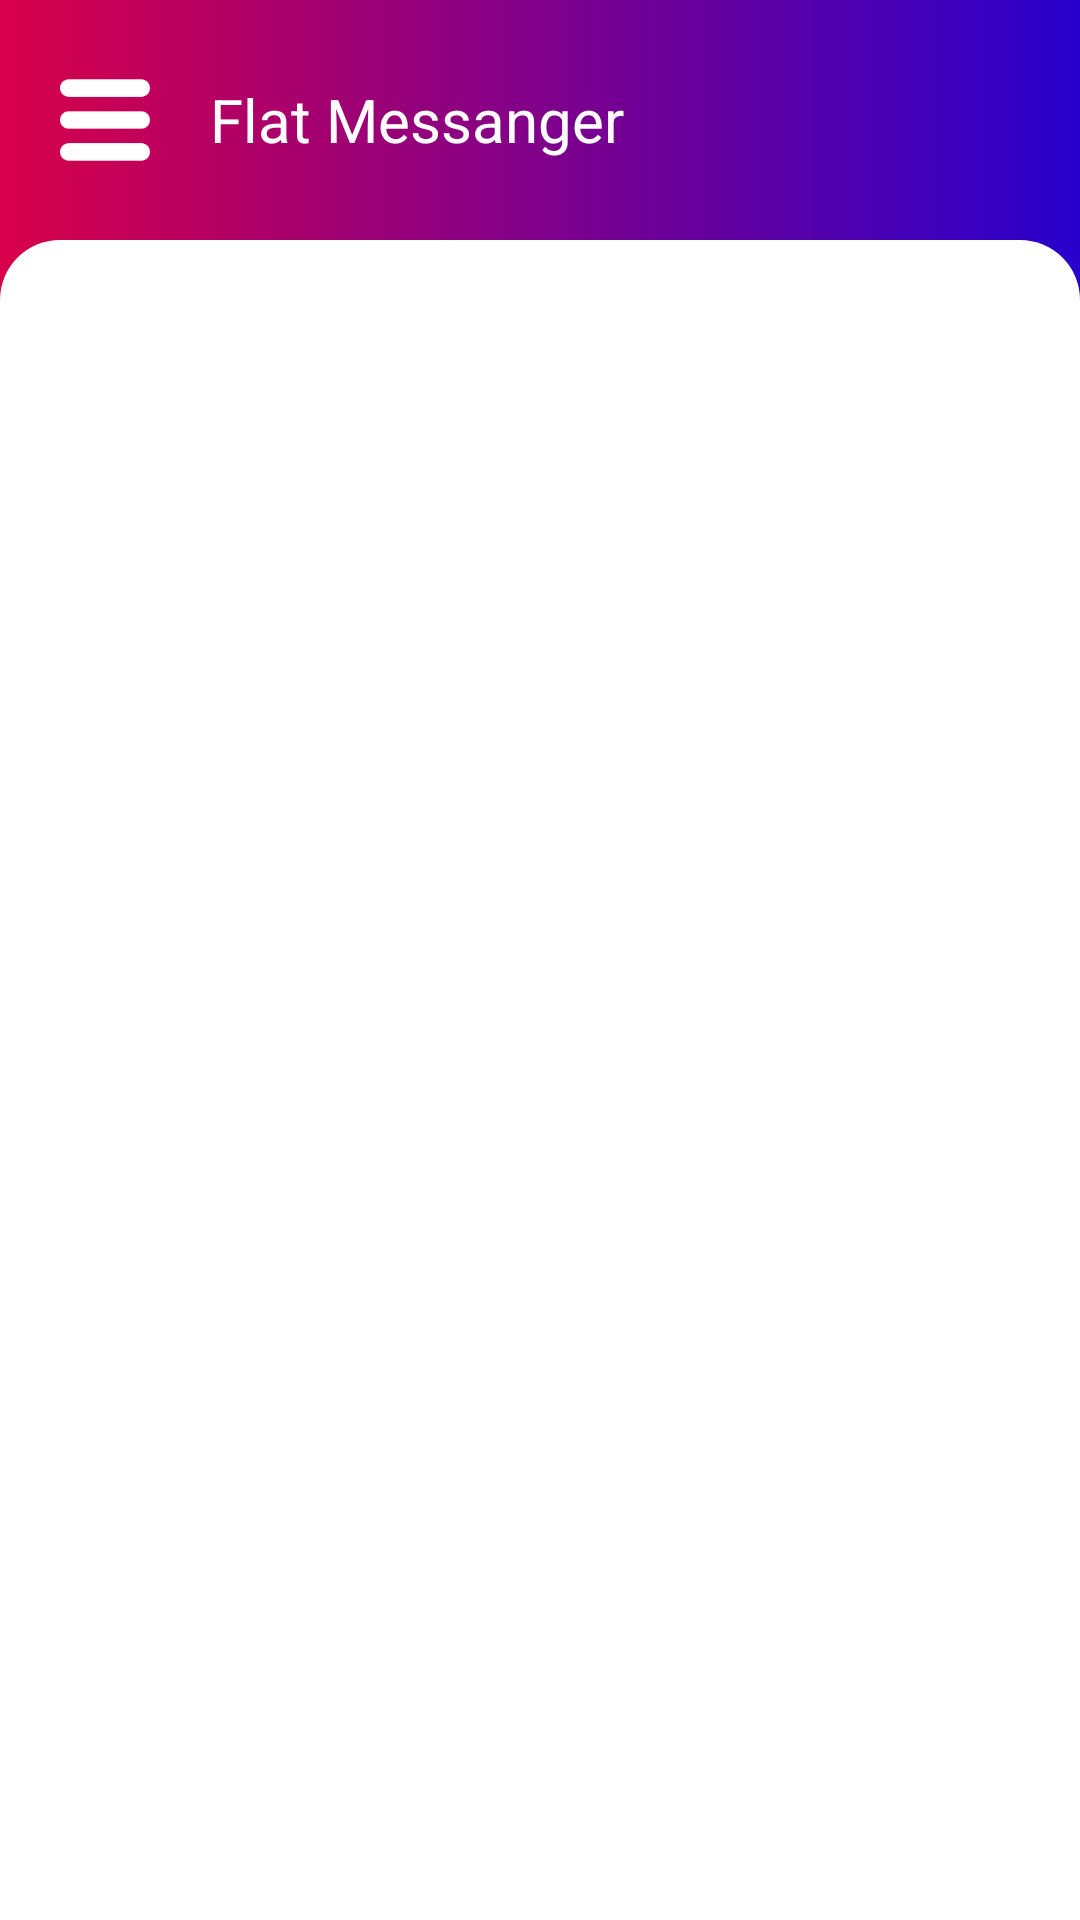

Icon click points for this 1080w x 1920h phone screenshot, format (x,y):
menu: (105,120)
